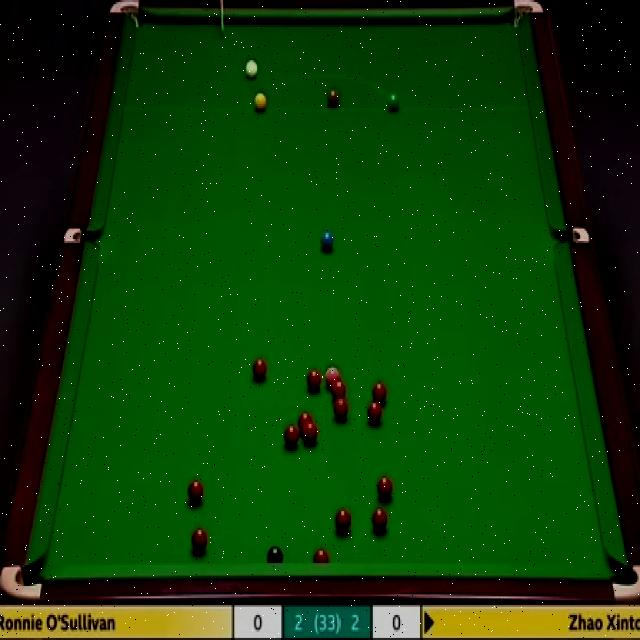black-ball: (266, 542, 283, 567)
blue-ball: (321, 232, 334, 252)
brown-ball: (326, 90, 339, 110)
green-ball: (386, 91, 401, 113)
pink-ball: (324, 363, 340, 387)
red-ball: (375, 474, 394, 502), (186, 478, 205, 504), (371, 505, 388, 534), (190, 526, 208, 551), (335, 504, 352, 530), (251, 355, 267, 382), (333, 396, 349, 422), (306, 366, 322, 392), (283, 423, 299, 448), (303, 419, 318, 443), (371, 380, 388, 401), (368, 400, 382, 425), (312, 547, 329, 564), (331, 380, 346, 399), (298, 411, 312, 429)
white-ball: (244, 59, 259, 84)
yellow-ball: (254, 89, 266, 112)
